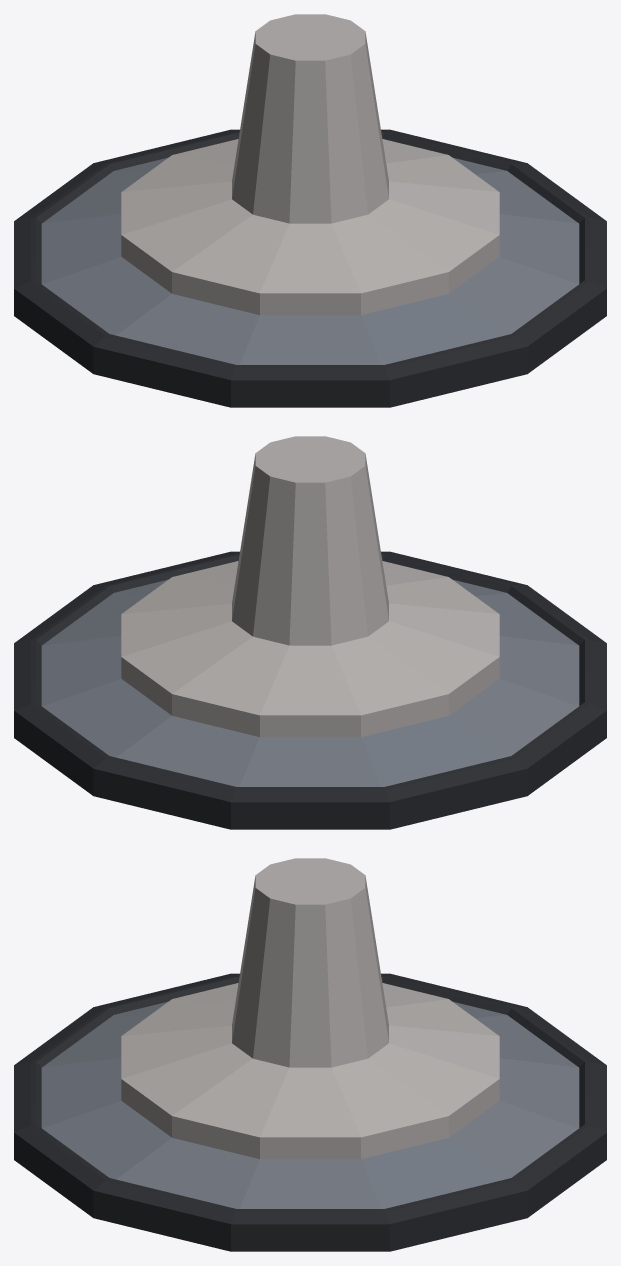
Rendered from SM_Prop_Barber_Chair_01.obj.
The picture shows the model from 3 angles, top to bottom: view 1: azimuth 30°, elevation 25°; view 2: azimuth 150°, elevation 25°; view 3: azimuth 270°, elevation 25°; orthographic projection.
Parts seen in each view (by area): view 1: SM_Prop_Barber_Chair_01_0; view 2: SM_Prop_Barber_Chair_01_0; view 3: SM_Prop_Barber_Chair_01_0.
Part boxes in pixels (x1=…): SM_Prop_Barber_Chair_01_0: x1=14, y1=14, x2=606, y2=407; SM_Prop_Barber_Chair_01_0: x1=14, y1=436, x2=606, y2=829; SM_Prop_Barber_Chair_01_0: x1=14, y1=858, x2=606, y2=1251.
Bounding box in the file's own units: 0.971 × 0.4426 × 0.971.
Materials: 1 (1 with a texture image).
